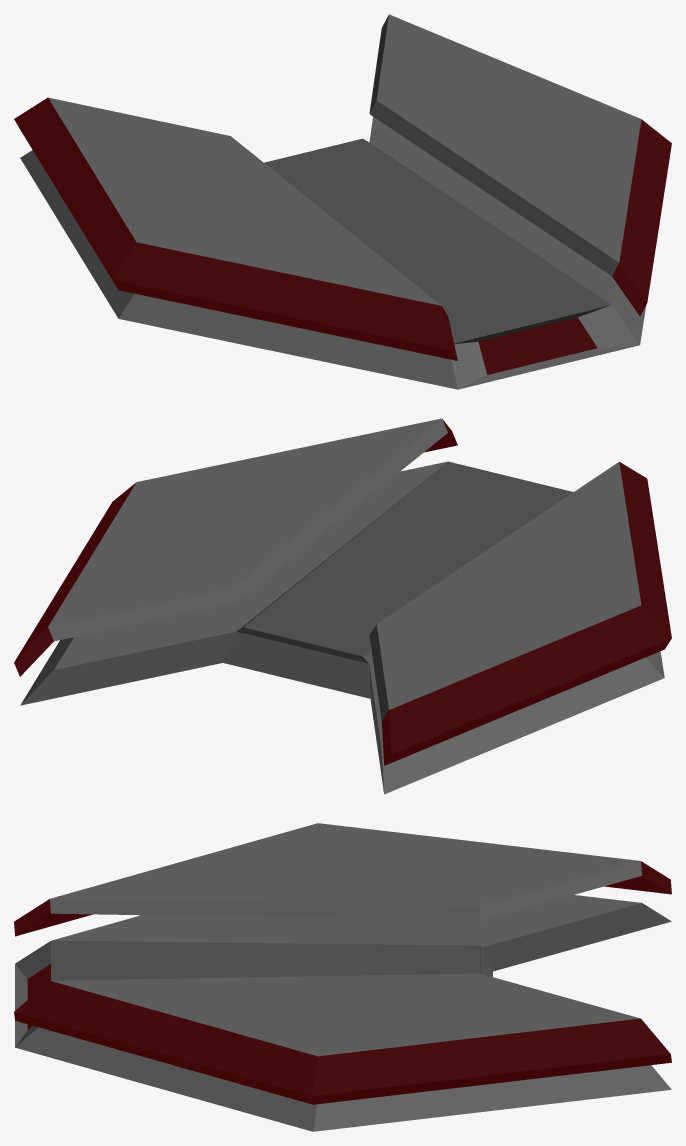
The model's file is enemyship7.glb.
3 renders of one model, top to bottom at view 1: azimuth 30°, elevation 25°; view 2: azimuth 150°, elevation 25°; view 3: azimuth 270°, elevation 25°, orthographic. The views are drawn at different scales.
Parts seen in each view (by area): view 1: Ship; view 2: Ship; view 3: Ship.
Boxes of the visible parts, left/top/right/bottom form: Ship: left=14, top=14, right=671, bottom=389; Ship: left=14, top=418, right=671, bottom=794; Ship: left=14, top=823, right=671, bottom=1131.
Bounding box in the file's own units: 2.05 × 0.2435 × 2.2.
